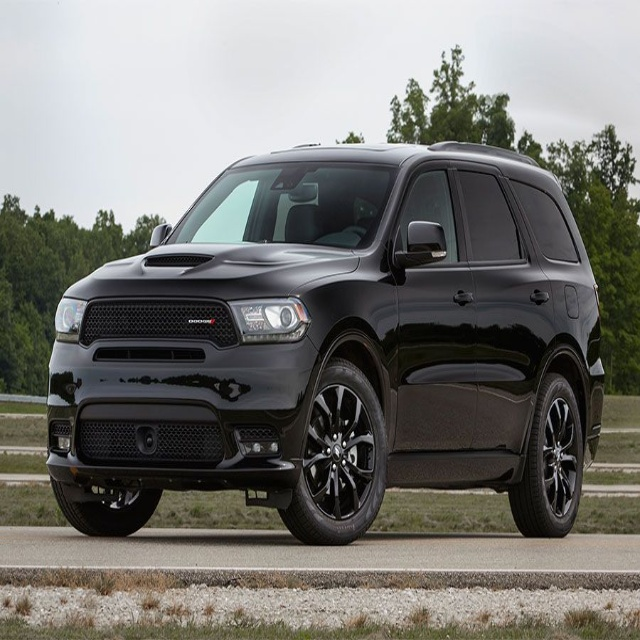Car: (45, 141, 605, 545)
